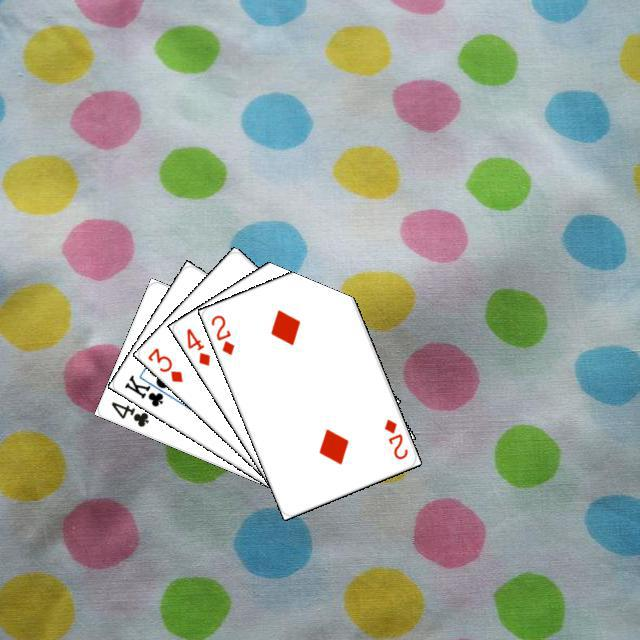2d: (379, 414, 410, 461), (206, 310, 236, 357)
3d: (143, 343, 185, 384)
4c: (106, 397, 151, 429)
4d: (181, 323, 212, 368)
Kc: (119, 370, 174, 409)
